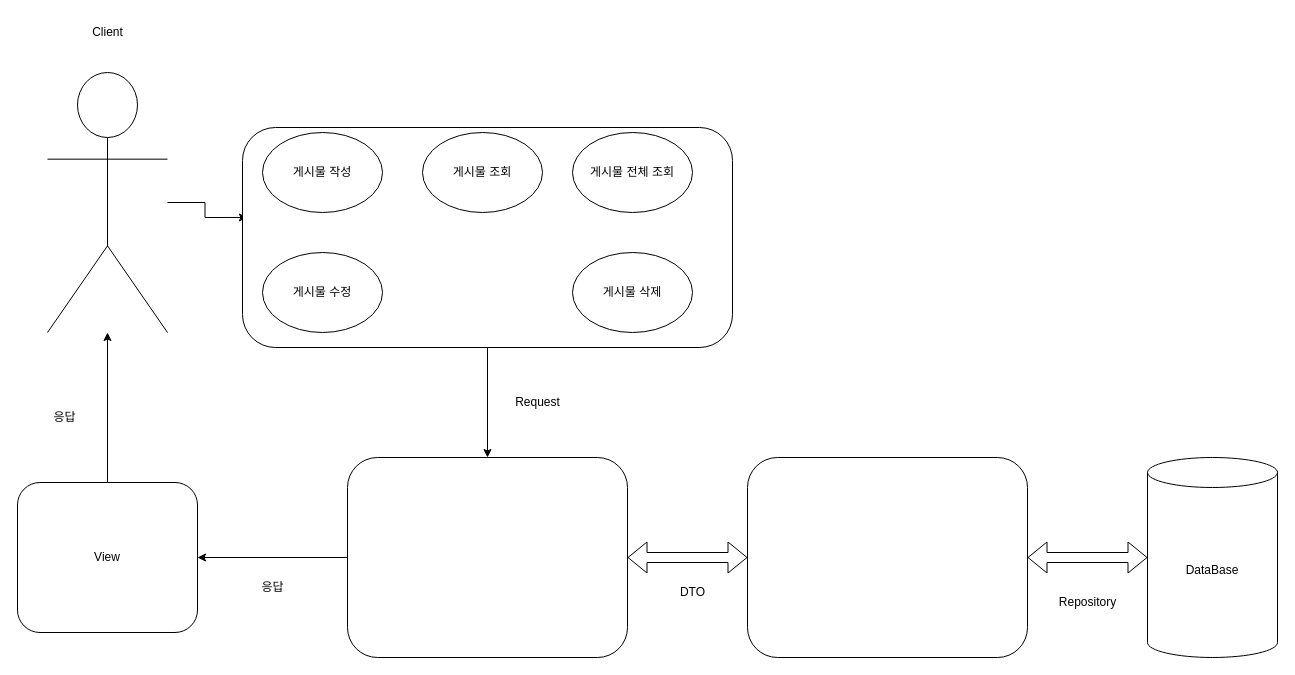
This 1295x675 diagram has some shape labels left out. Each missing label, with the centre of its shape:
@Controller: pixel 487 557
@Service: pixel 887 557
